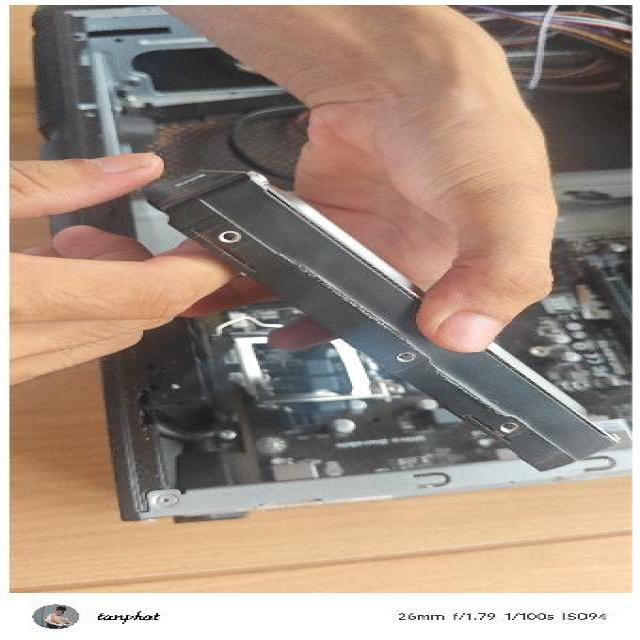DISK: (133, 157, 624, 471)
